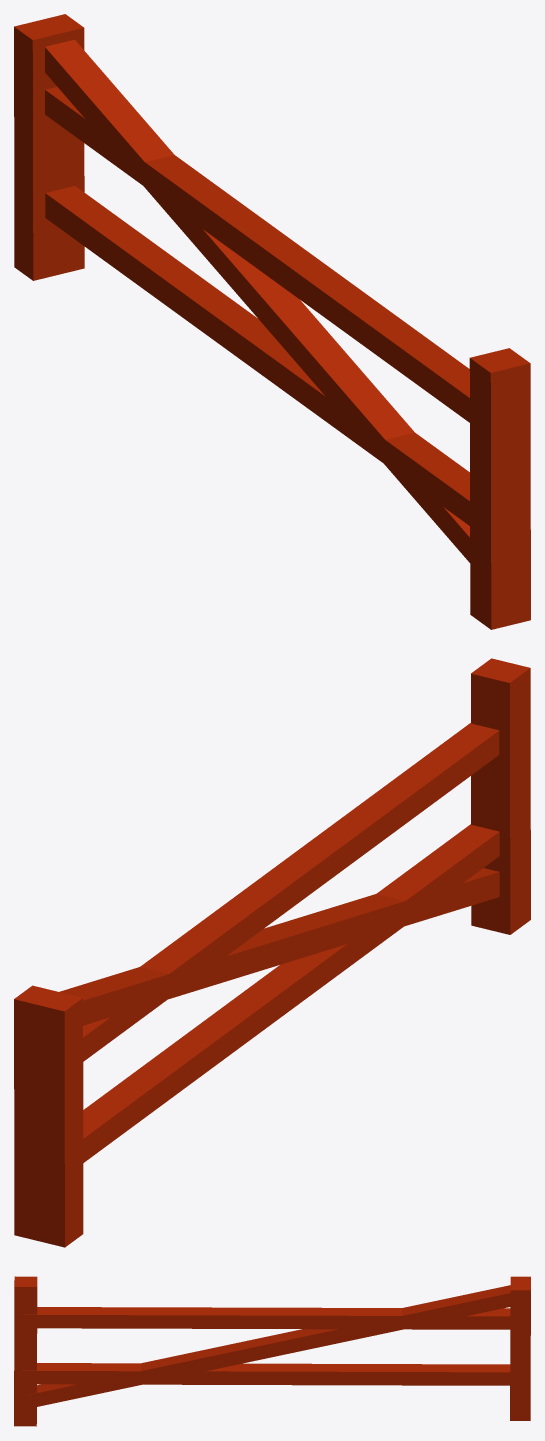
The model's file is VALLA_MADERA.FBX.
The picture shows the model from 3 angles, top to bottom: view 1: azimuth 30°, elevation 25°; view 2: azimuth 150°, elevation 25°; view 3: azimuth 270°, elevation 25°; orthographic projection. The views are drawn at different scales.
Parts seen in each view (by area): view 1: Box002, Box005, Box001, Box003, Box004; view 2: Box002, Box001, Box004, Box005, Box003; view 3: Box002, Box005, Box001, Box004, Box003.
Part boxes in pixels (box(x1,y1,x2,y2)): Box002: box(45, 87, 469, 422); Box005: box(45, 39, 470, 562); Box001: box(45, 186, 469, 525); Box003: box(469, 348, 530, 629); Box004: box(14, 14, 84, 280); Box002: box(83, 723, 499, 1061); Box001: box(83, 824, 499, 1162); Box004: box(14, 985, 83, 1247); Box005: box(59, 868, 499, 1025); Box003: box(471, 658, 530, 934); Box002: box(23, 1307, 510, 1329); Box005: box(26, 1285, 510, 1408); Box001: box(22, 1363, 510, 1385); Box004: box(510, 1276, 530, 1420); Box003: box(14, 1276, 37, 1426).
Bounding box in the file's own units: 3.87 × 18.47 × 62.04.
